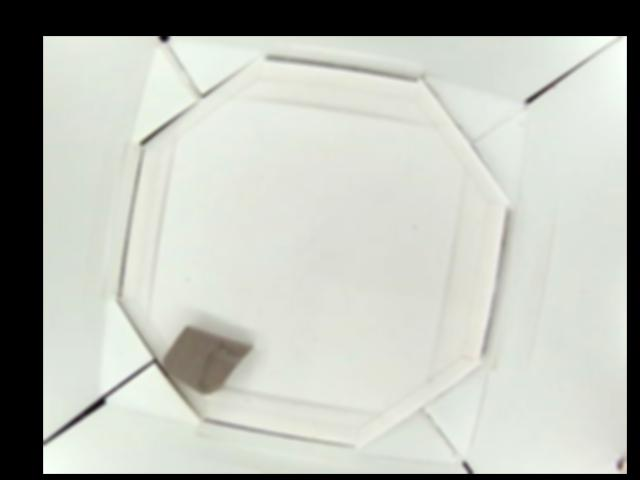China: (163, 320, 253, 397)
